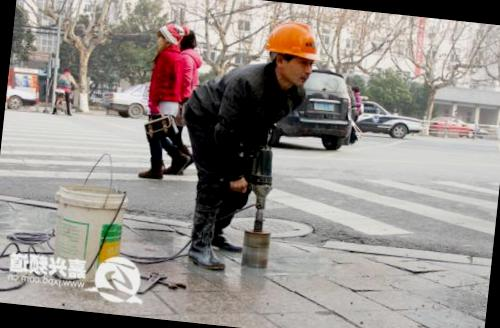no_helmet: (153, 18, 184, 52), (176, 27, 198, 52)
